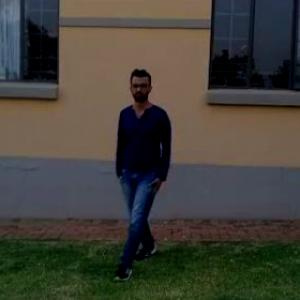follow: (113, 69, 172, 264)
